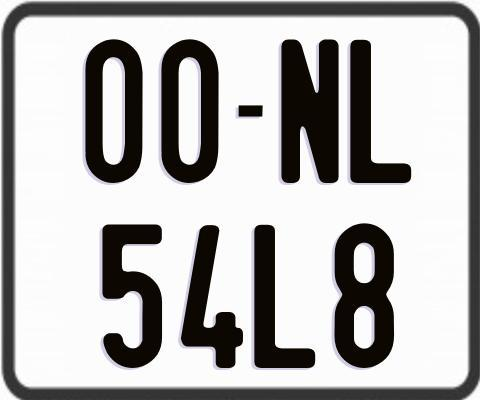0: (160, 38, 221, 186), (82, 36, 143, 183)
4: (179, 225, 241, 372)
5: (101, 224, 163, 373)
8: (331, 221, 396, 372)
L: (348, 39, 414, 184), (251, 223, 312, 372)
N: (281, 37, 342, 186)
